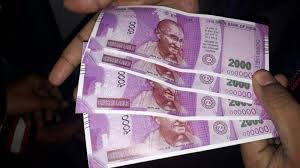twoThousand: (120, 12, 254, 84)
